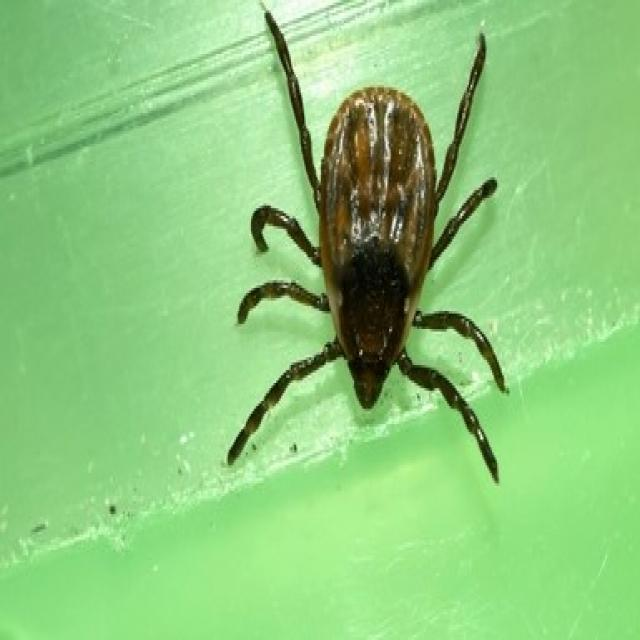Rhipicephalus Sanguineus-F: (226, 10, 509, 483)
